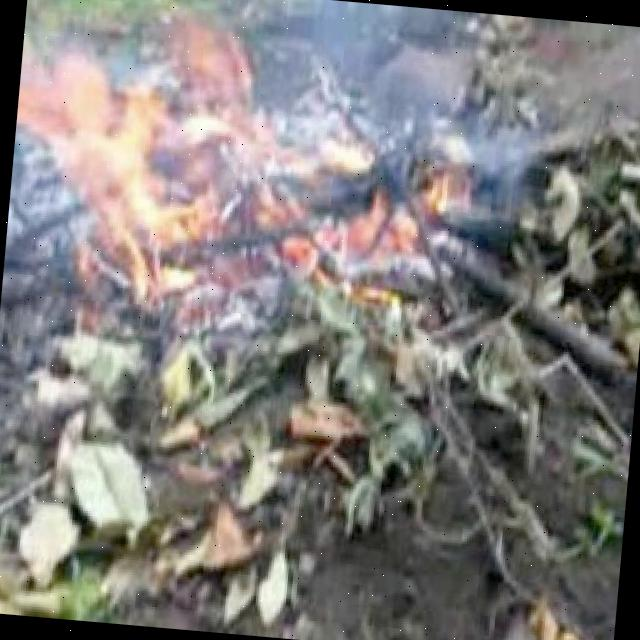fire: (18, 0, 481, 319)
